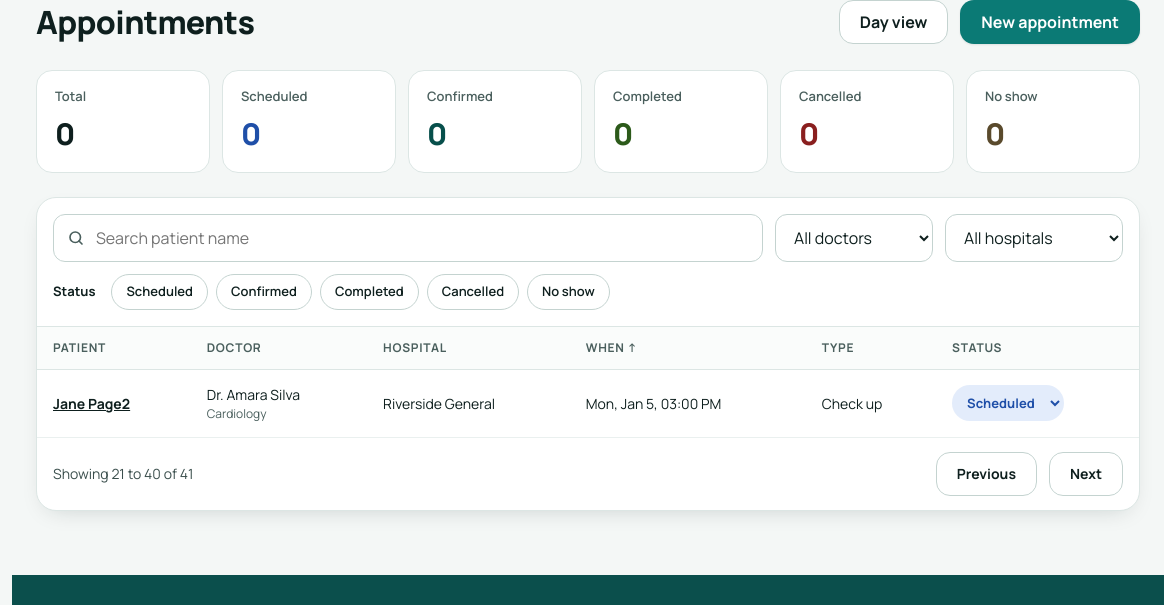
Scenario: appointments list › resets to page 1 when a filter changes
This screenshot has width=1164, height=605.
Check: the link "Jane Page2" is shown, box [53,394,130,412]
Click the checkbox labelled "Confirmed" at (264, 292), box [216,274,312,310]
(page scrolled)
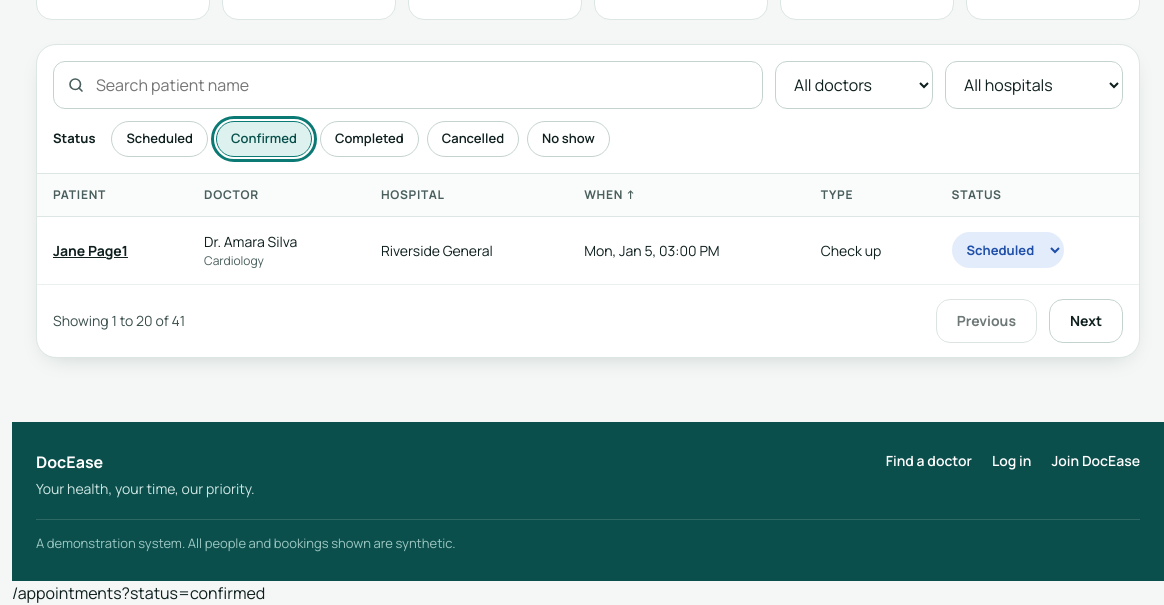
Check: the text with test id "location" reads "/appointments?status=confirmed", box [12,582,265,604]
